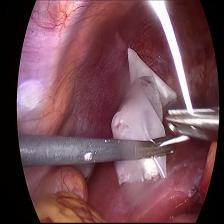Grasper: (164, 103, 221, 144), (136, 132, 176, 159)
Specimen Bag: (110, 45, 178, 192)
